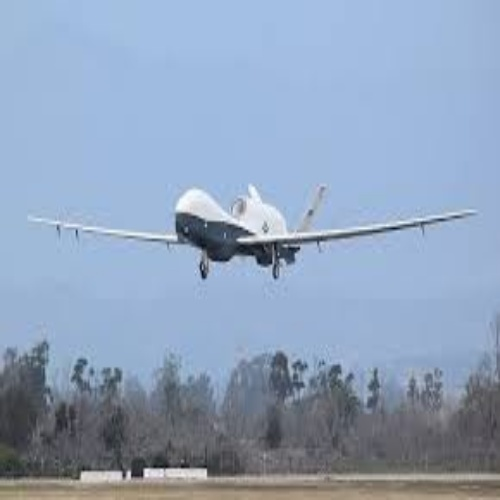uav378: (26, 178, 479, 276)
